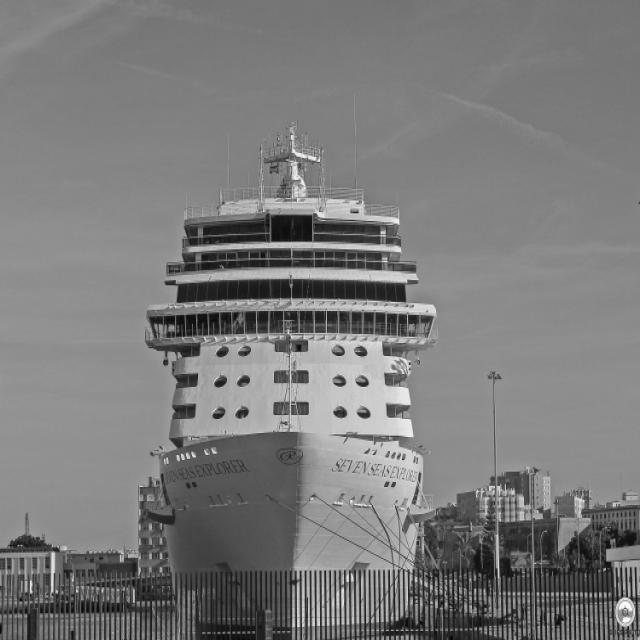cruises: (136, 130, 447, 621)
